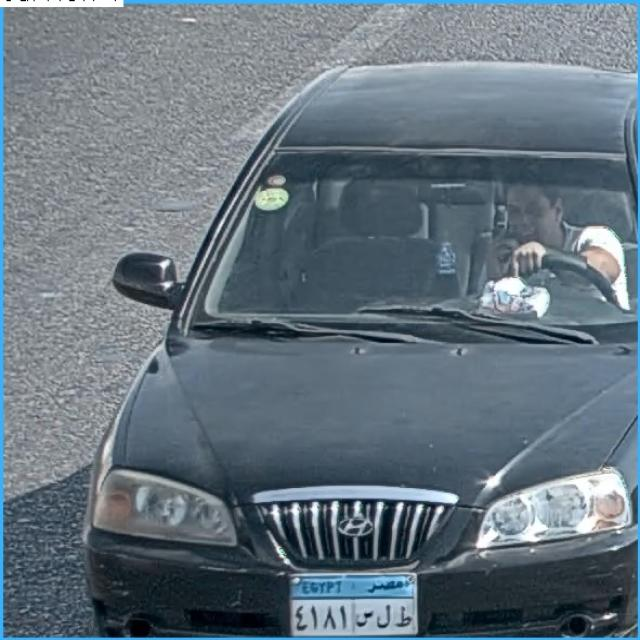windshield: (188, 164, 634, 336)
